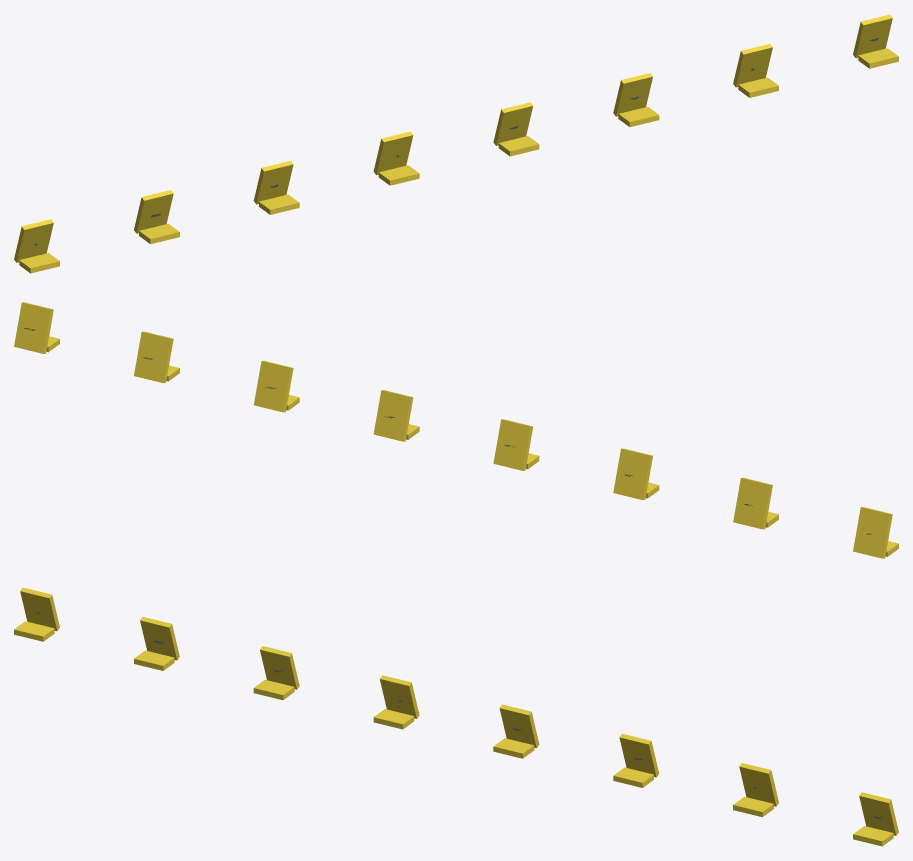
File: Track numbers.glb
3 views of the same model, one above another, from view 1: azimuth 30°, elevation 25°; view 2: azimuth 150°, elevation 25°; view 3: azimuth 330°, elevation 25° (orthographic).
Visible parts, largest first — view 1: MetaAthletics_LaneMarker_4_Face, MetaAthletics_LaneMarker_7_Face, MetaAthletics_LaneMarker_1_Face, MetaAthletics_LaneMarker_6_Face, MetaAthletics_LaneMarker_8_Face, MetaAthletics_LaneMarker_5_Face, MetaAthletics_LaneMarker_3_Face, MetaAthletics_LaneMarker_2_Face, MetaAthletics_LaneMarker_4_Base, MetaAthletics_LaneMarker_6_Base, MetaAthletics_LaneMarker_5_Base, MetaAthletics_LaneMarker_2_Base (+4 smaller); view 2: MetaAthletics_LaneMarker_2_Face, MetaAthletics_LaneMarker_4_Face, MetaAthletics_LaneMarker_8_Face, MetaAthletics_LaneMarker_6_Face, MetaAthletics_LaneMarker_7_Face, MetaAthletics_LaneMarker_1_Face, MetaAthletics_LaneMarker_3_Face, MetaAthletics_LaneMarker_5_Face; view 3: MetaAthletics_LaneMarker_4_Face, MetaAthletics_LaneMarker_1_Face, MetaAthletics_LaneMarker_7_Face, MetaAthletics_LaneMarker_3_Face, MetaAthletics_LaneMarker_5_Face, MetaAthletics_LaneMarker_6_Face, MetaAthletics_LaneMarker_8_Face, MetaAthletics_LaneMarker_2_Face, MetaAthletics_LaneMarker_3_Base, MetaAthletics_LaneMarker_5_Base, MetaAthletics_LaneMarker_4_Base, MetaAthletics_LaneMarker_2_Base (+4 smaller).
Boxes of the visible parts, x1,y1,x2,y2 form: MetaAthletics_LaneMarker_4_Face: (373, 131, 413, 175); MetaAthletics_LaneMarker_7_Face: (733, 44, 772, 87); MetaAthletics_LaneMarker_1_Face: (14, 219, 53, 262); MetaAthletics_LaneMarker_6_Face: (613, 73, 652, 116); MetaAthletics_LaneMarker_8_Face: (853, 14, 892, 57); MetaAthletics_LaneMarker_5_Face: (493, 102, 532, 145); MetaAthletics_LaneMarker_3_Face: (253, 160, 293, 204); MetaAthletics_LaneMarker_2_Face: (134, 190, 173, 233); MetaAthletics_LaneMarker_4_Base: (378, 165, 419, 185); MetaAthletics_LaneMarker_6_Base: (618, 106, 659, 126); MetaAthletics_LaneMarker_5_Base: (498, 136, 539, 156); MetaAthletics_LaneMarker_2_Base: (139, 223, 179, 244); MetaAthletics_LaneMarker_2_Face: (733, 477, 772, 529); MetaAthletics_LaneMarker_4_Face: (493, 419, 533, 470); MetaAthletics_LaneMarker_8_Face: (14, 302, 53, 353); MetaAthletics_LaneMarker_6_Face: (254, 360, 293, 412); MetaAthletics_LaneMarker_7_Face: (134, 331, 173, 383); MetaAthletics_LaneMarker_1_Face: (853, 507, 892, 558); MetaAthletics_LaneMarker_3_Face: (613, 448, 652, 499); MetaAthletics_LaneMarker_5_Face: (373, 390, 413, 441); MetaAthletics_LaneMarker_4_Face: (380, 675, 419, 718); MetaAthletics_LaneMarker_1_Face: (20, 587, 59, 630); MetaAthletics_LaneMarker_7_Face: (739, 763, 778, 806); MetaAthletics_LaneMarker_3_Face: (260, 646, 299, 689); MetaAthletics_LaneMarker_5_Face: (499, 704, 539, 748); MetaAthletics_LaneMarker_6_Face: (619, 733, 659, 777); MetaAthletics_LaneMarker_8_Face: (859, 792, 898, 835); MetaAthletics_LaneMarker_2_Face: (140, 617, 179, 660); MetaAthletics_LaneMarker_3_Base: (253, 679, 294, 699); MetaAthletics_LaneMarker_5_Base: (493, 738, 534, 758); MetaAthletics_LaneMarker_4_Base: (373, 709, 414, 729); MetaAthletics_LaneMarker_2_Base: (134, 650, 174, 670).
Size of the model in its own units: 8.84 by 0.3965 by 0.3179.
